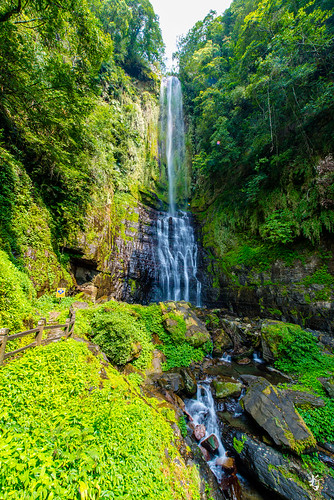wufengciWaterfall: (109, 59, 267, 313)
